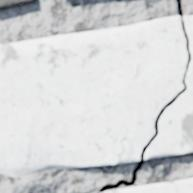brick: (101, 178, 192, 192), (0, 0, 34, 10)
broken_brick: (0, 17, 187, 177), (144, 17, 192, 160)
crack: (100, 0, 191, 192)
